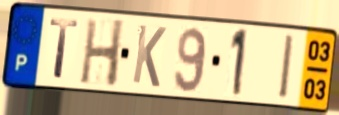1: (228, 26, 251, 100)
9: (172, 24, 208, 94)
H: (77, 17, 127, 90)
I: (278, 32, 297, 102)
K: (130, 22, 168, 90)
T: (48, 17, 81, 82)
